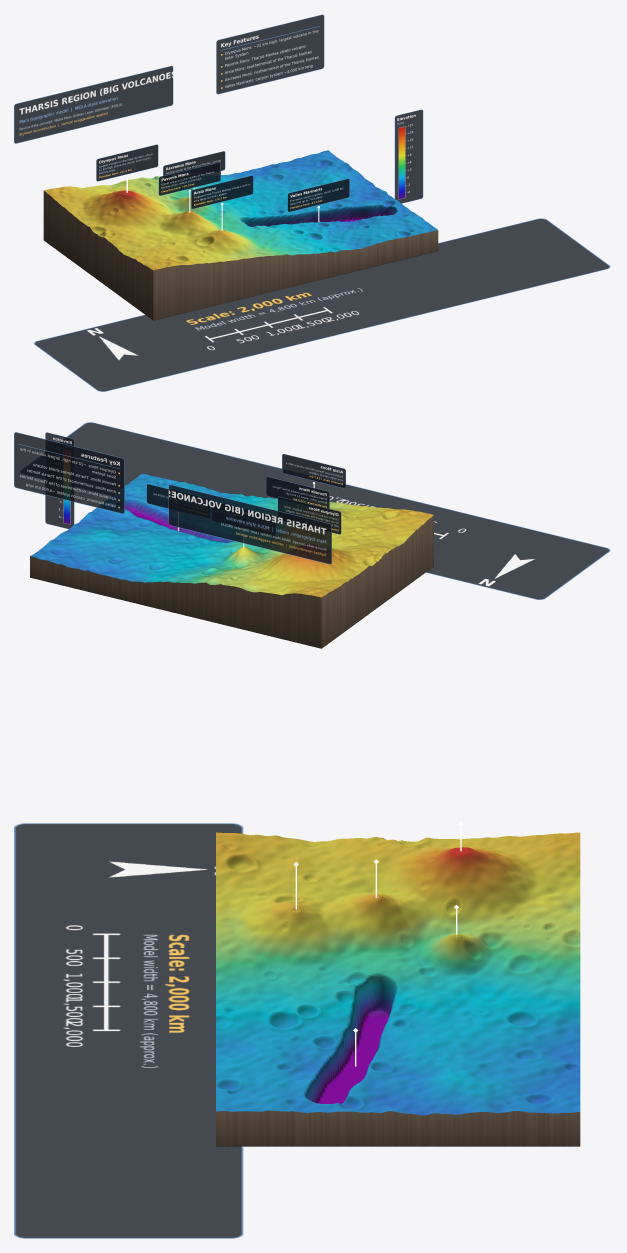
The model's file is 01_Tharsis.glb.
The picture shows the model from 3 angles, top to bottom: view 1: azimuth 30°, elevation 25°; view 2: azimuth 150°, elevation 25°; view 3: azimuth 270°, elevation 25°; orthographic projection. The views are drawn at different scales.
Visible parts, largest first — view 1: Info_ScaleAndCompass, Terrain_Surface, Terrain_Walls, Info_Title, Info_KeyFeatures, Info_ElevationLegend, Label_Olympus Mons, Label_Pavonis Mons, Label_Arsia Mons, Label_Valles Marineris, Label_Ascraeus Mons; view 2: Terrain_Surface, Info_ScaleAndCompass, Terrain_Walls, Info_Title, Info_KeyFeatures, Info_ElevationLegend, Label_Olympus Mons, Label_Arsia Mons, Label_Pavonis Mons, Label_Valles Marineris, Label_Ascraeus Mons; view 3: Terrain_Surface, Info_ScaleAndCompass, Terrain_Walls.
Boxes of the visible parts, x1,y1,x2,y2 form: Info_ScaleAndCompass: [34, 218, 610, 391]; Terrain_Surface: [44, 150, 437, 270]; Terrain_Walls: [43, 190, 438, 320]; Info_Title: [14, 65, 173, 143]; Info_KeyFeatures: [216, 14, 324, 94]; Info_ElevationLegend: [394, 109, 423, 203]; Label_Olympus Mons: [96, 144, 158, 181]; Label_Pavonis Mons: [158, 162, 220, 195]; Label_Arsia Mons: [191, 175, 253, 208]; Label_Valles Marineris: [287, 178, 349, 212]; Label_Ascraeus Mons: [163, 151, 225, 175]; Terrain_Surface: [30, 473, 433, 597]; Info_ScaleAndCompass: [20, 422, 610, 599]; Terrain_Walls: [30, 515, 433, 648]; Info_Title: [168, 484, 331, 564]; Info_KeyFeatures: [14, 432, 124, 513]; Info_ElevationLegend: [45, 432, 74, 529]; Label_Olympus Mons: [277, 496, 341, 534]; Label_Arsia Mons: [282, 454, 345, 488]; Label_Pavonis Mons: [266, 476, 329, 508]; Label_Valles Marineris: [146, 484, 209, 517]; Label_Ascraeus Mons: [212, 503, 274, 534]; Terrain_Surface: [216, 832, 580, 1115]; Info_ScaleAndCompass: [14, 823, 243, 1238]; Terrain_Walls: [216, 1110, 580, 1146].
Size of the model in its own units: 18 by 4.98 by 10.97.
Materials: 11 (9 with a texture image).
